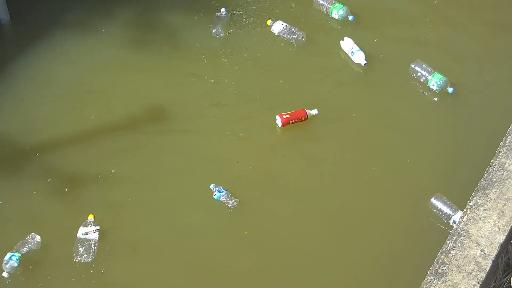plastic: (2, 232, 48, 278), (407, 58, 457, 99), (70, 212, 104, 265), (426, 192, 472, 229), (264, 17, 313, 45), (272, 106, 326, 129), (207, 181, 248, 211), (302, 0, 355, 22), (338, 36, 369, 67), (208, 5, 233, 42)
